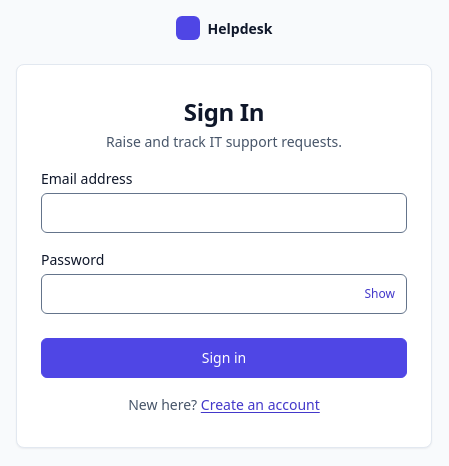
Test case: LoginPage › toggles password visibility
Click the button with aria-label "Show password". click: (380, 294)
box: [356,278,403,310]
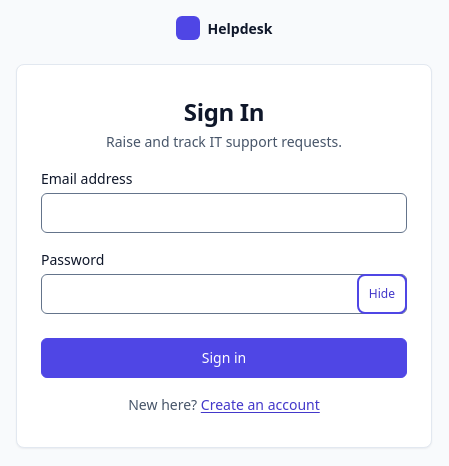
expect the button with aria-label "Hide password" reads "Hide": met, box [361,278,403,310]
